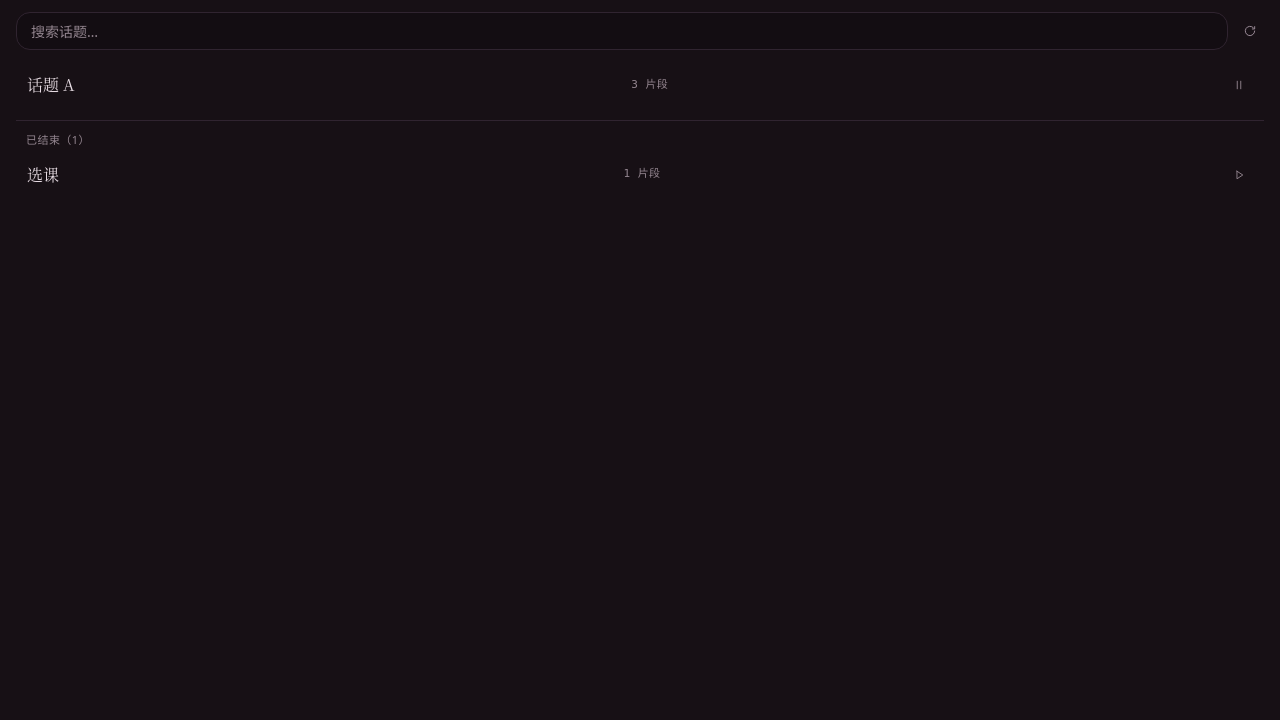
Test: 记忆标签页：完整讨论记录 › 概览 → 完整记录：真实分页读取，只读说明，可返回概览且状态保留
This screenshot has width=1280, height=720.
Step 1. Click the option "话题 A 3 片段" → (640, 85), box [16,62,1264,108]
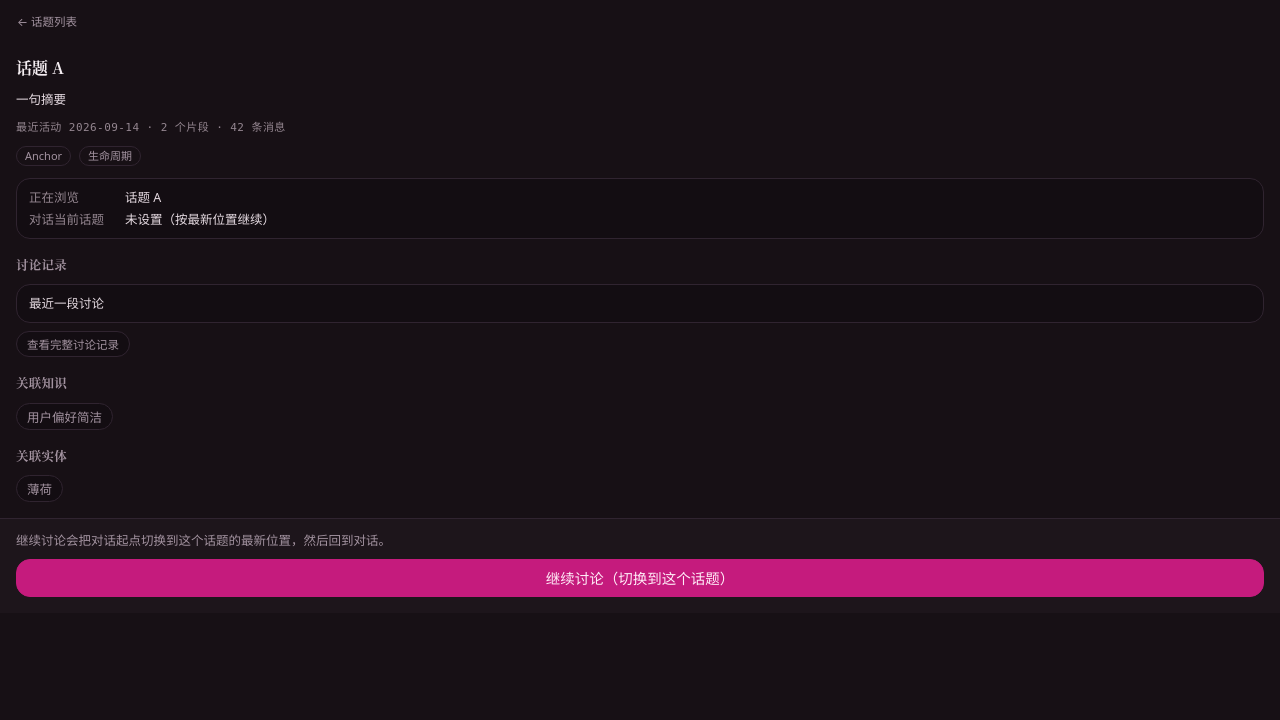
Step 2. Click the button with class "mt-open-record" → (73, 344), box [16,331,130,357]
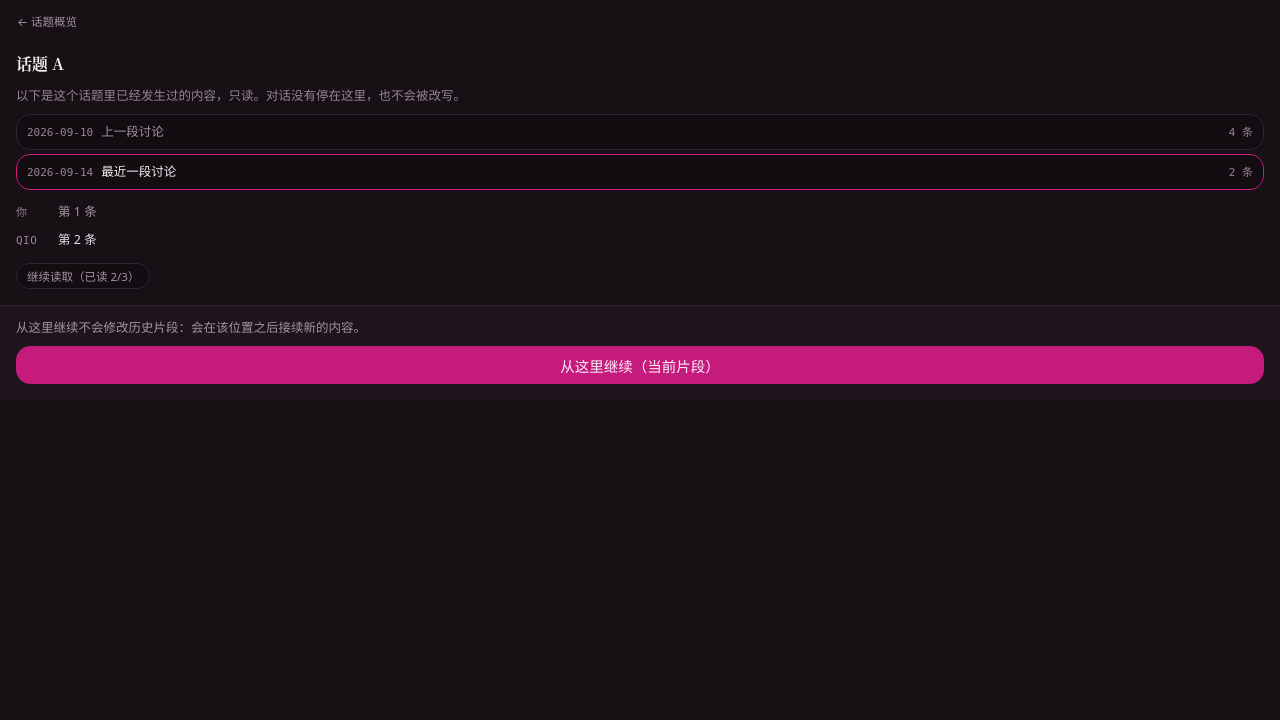
Expected: the element named "完整讨论记录" is shown, [0,0,1279,400]
Expected: the text with class "mt-hint" shows "只读", [16,87,466,104]
Step 3. Click the button with class "raw-more" → (83, 276), box [16,263,150,289]
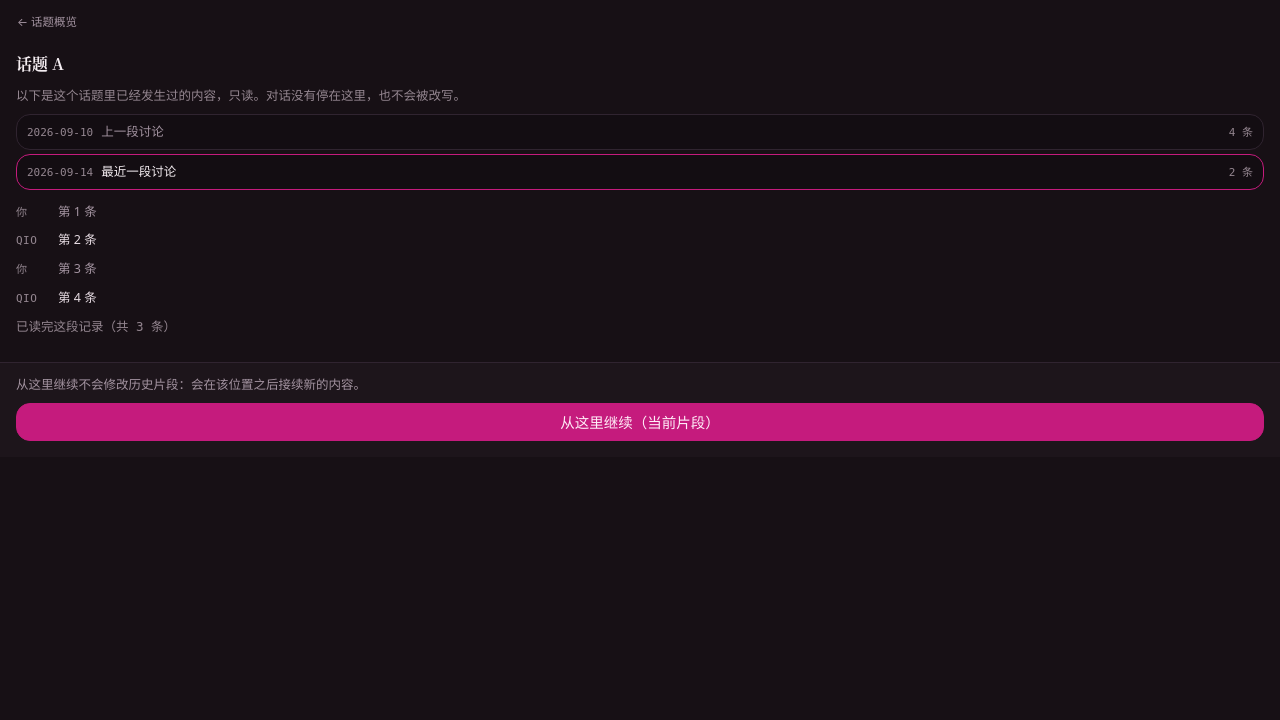
Expected: the number of list items with class "raw-item" is 4, [16,203,97,220]; [16,231,97,248]; [16,260,97,277]; [16,289,97,306]
Note: 返回概览（记录页的返回按钮），再回到列表：三层都在 DOM 里、状态没重置
Step 4. Click the button with class "mt-back" → (52, 21), box [16,8,88,34]
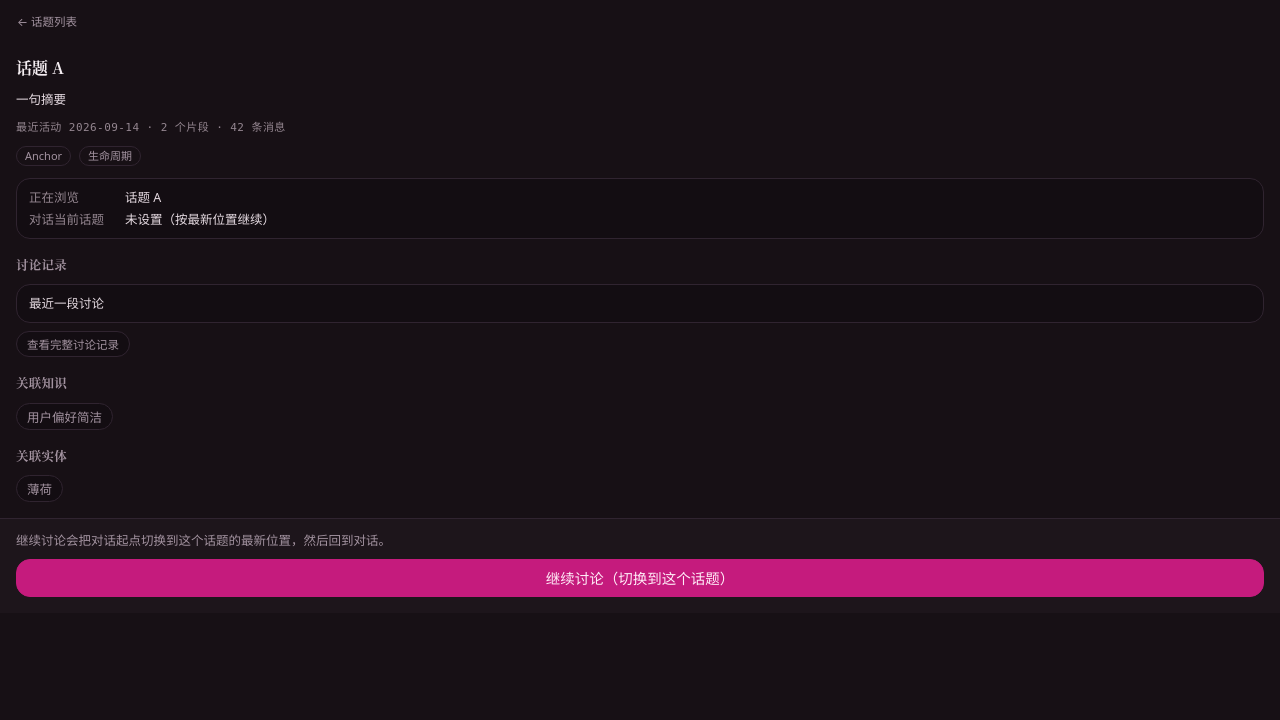
Step 5. Click the button with class "mt-back" → (52, 21), box [16,8,88,34]
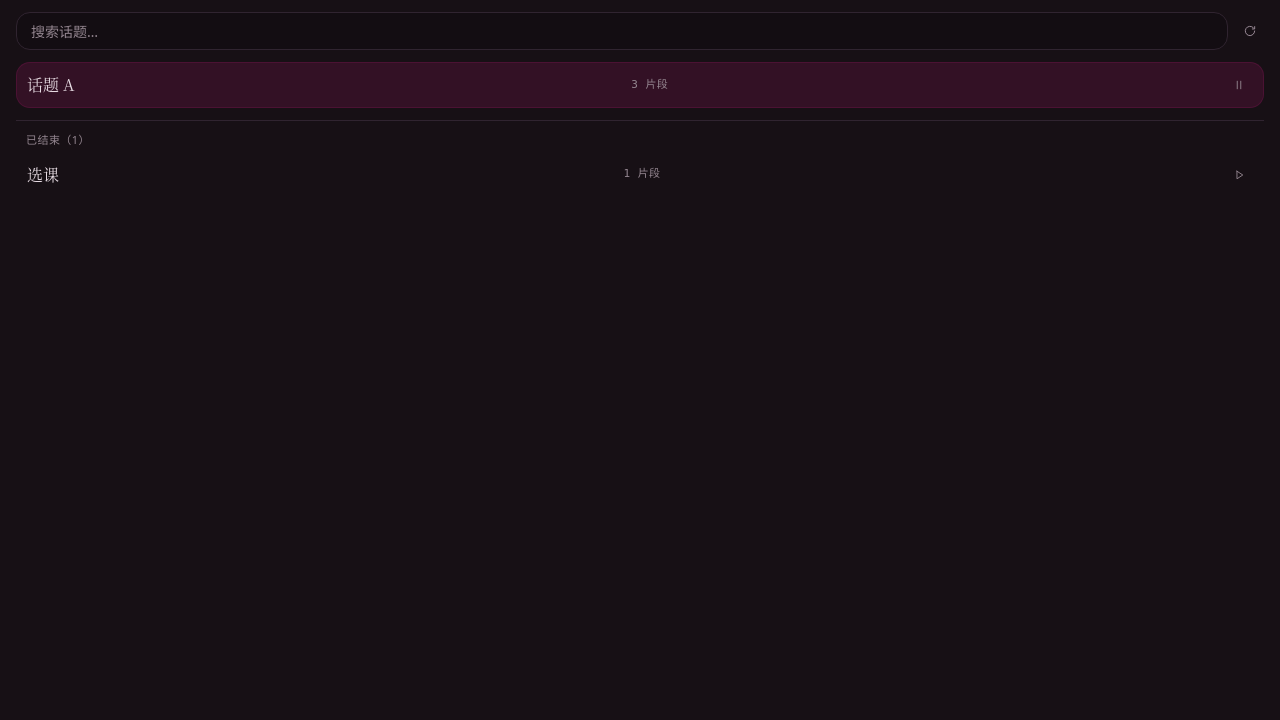
Expected: the list "话题 A 3 片段" is shown, [16,62,1264,108]
